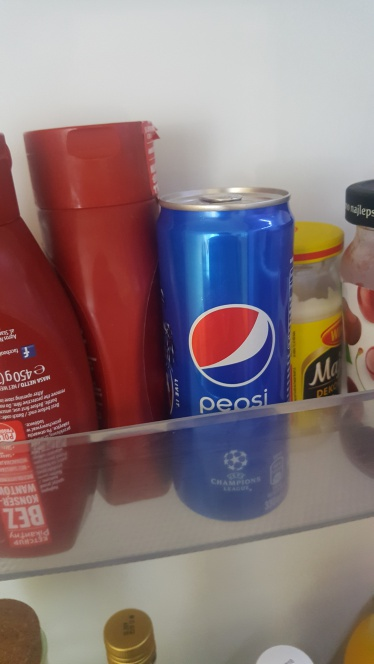pepsi: (152, 176, 305, 523)
